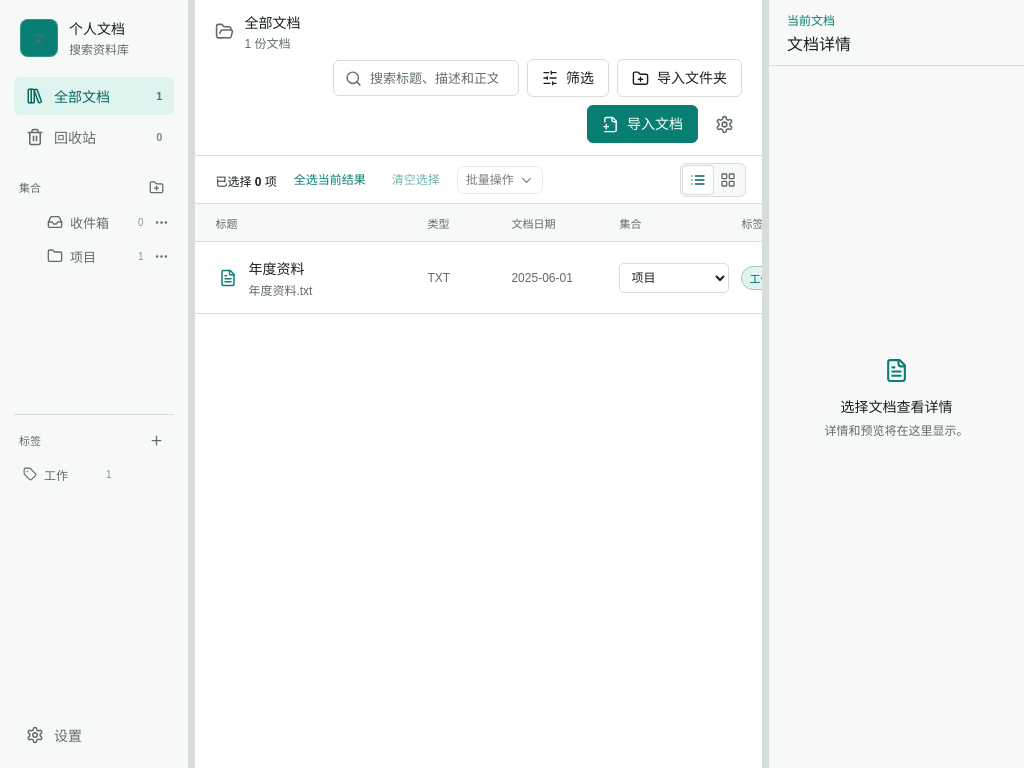
Scenario: 全文搜索与筛选 › shows a distinct empty result state for an unmatched query
expect the text "年度资料" is shown: met, box [248,260,304,276]
Type "完全不存在" into the search field named "搜索文档" at (440, 78), box [370,61,511,95]
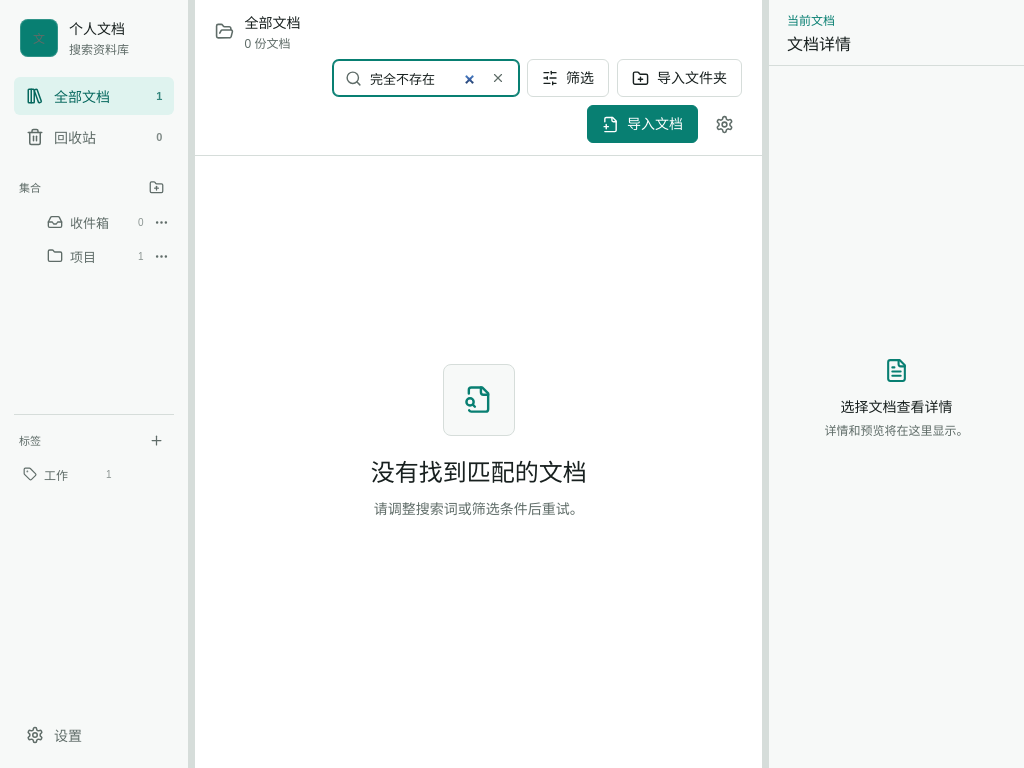
expect the element named "无搜索结果" shows "没有找到匹配的文档": met, box [371,459,587,486]
